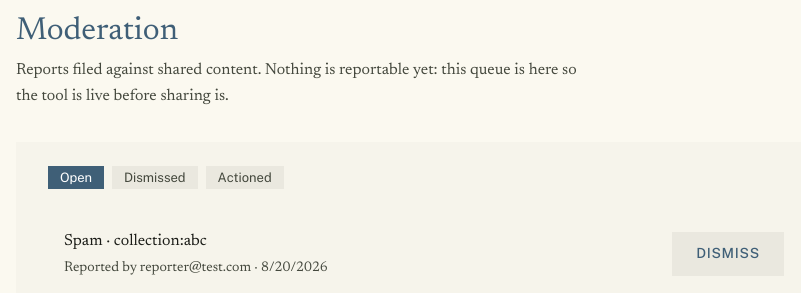
Test: AdminModeration › takes a dismissed report out of the open queue without refetching
Click the button "Dismiss" at (728, 254), box top-left (672, 232), bottom-right (784, 276)
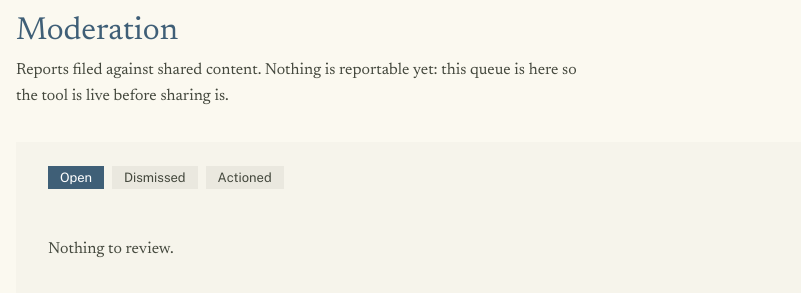
Check: the text "Nothing to review." is shown, box top-left (48, 241), bottom-right (174, 257)
